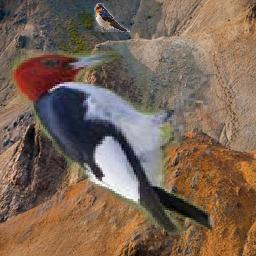Swallow: (94, 4, 130, 33)
Woodpecker: (3, 45, 223, 236)
